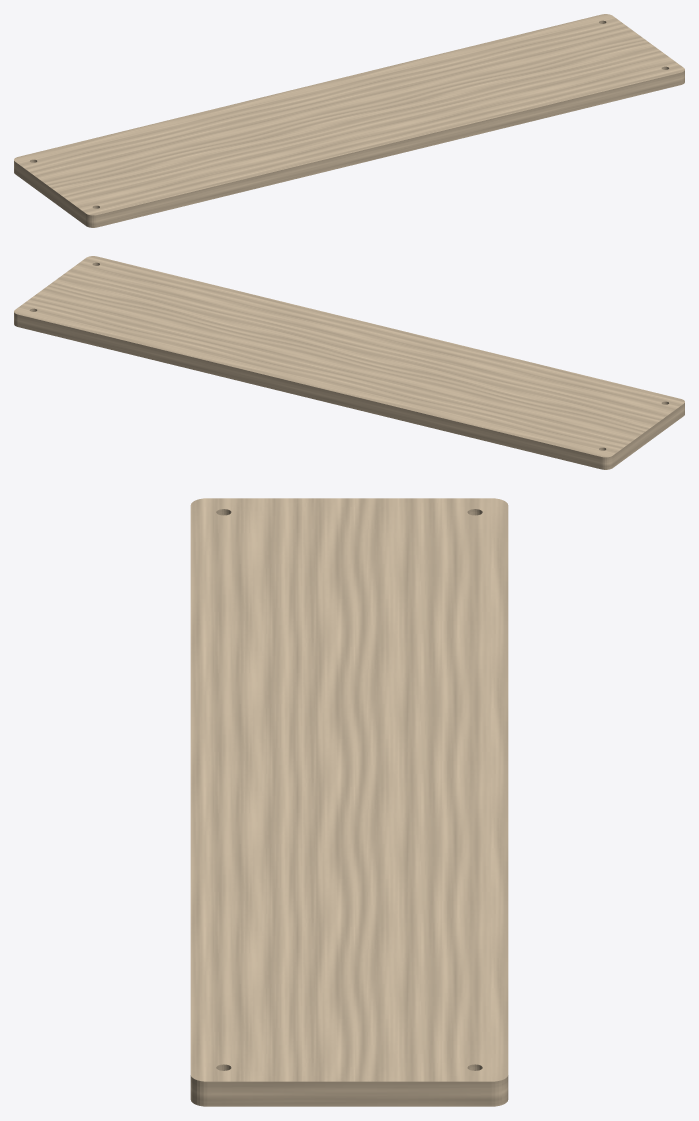
File: step-1.glb
3 renders of one model, top to bottom at view 1: azimuth 30°, elevation 25°; view 2: azimuth 150°, elevation 25°; view 3: azimuth 270°, elevation 25°, orthographic. The views are drawn at different scales.
Visible parts, largest first — view 1: base-plate__mesh; view 2: base-plate__mesh; view 3: base-plate__mesh.
Part boxes in pixels (x1,y1,x2,y2): base-plate__mesh: [14, 14, 684, 227]; base-plate__mesh: [14, 256, 684, 469]; base-plate__mesh: [190, 498, 508, 1106].
Bounding box in the file's own units: 0.5 × 0.01 × 0.115.
Materials: 1 (1 with a texture image).
